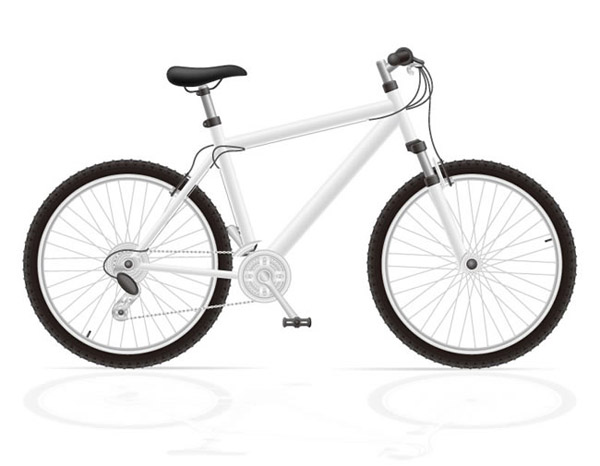MNV: (23, 49, 578, 370)
